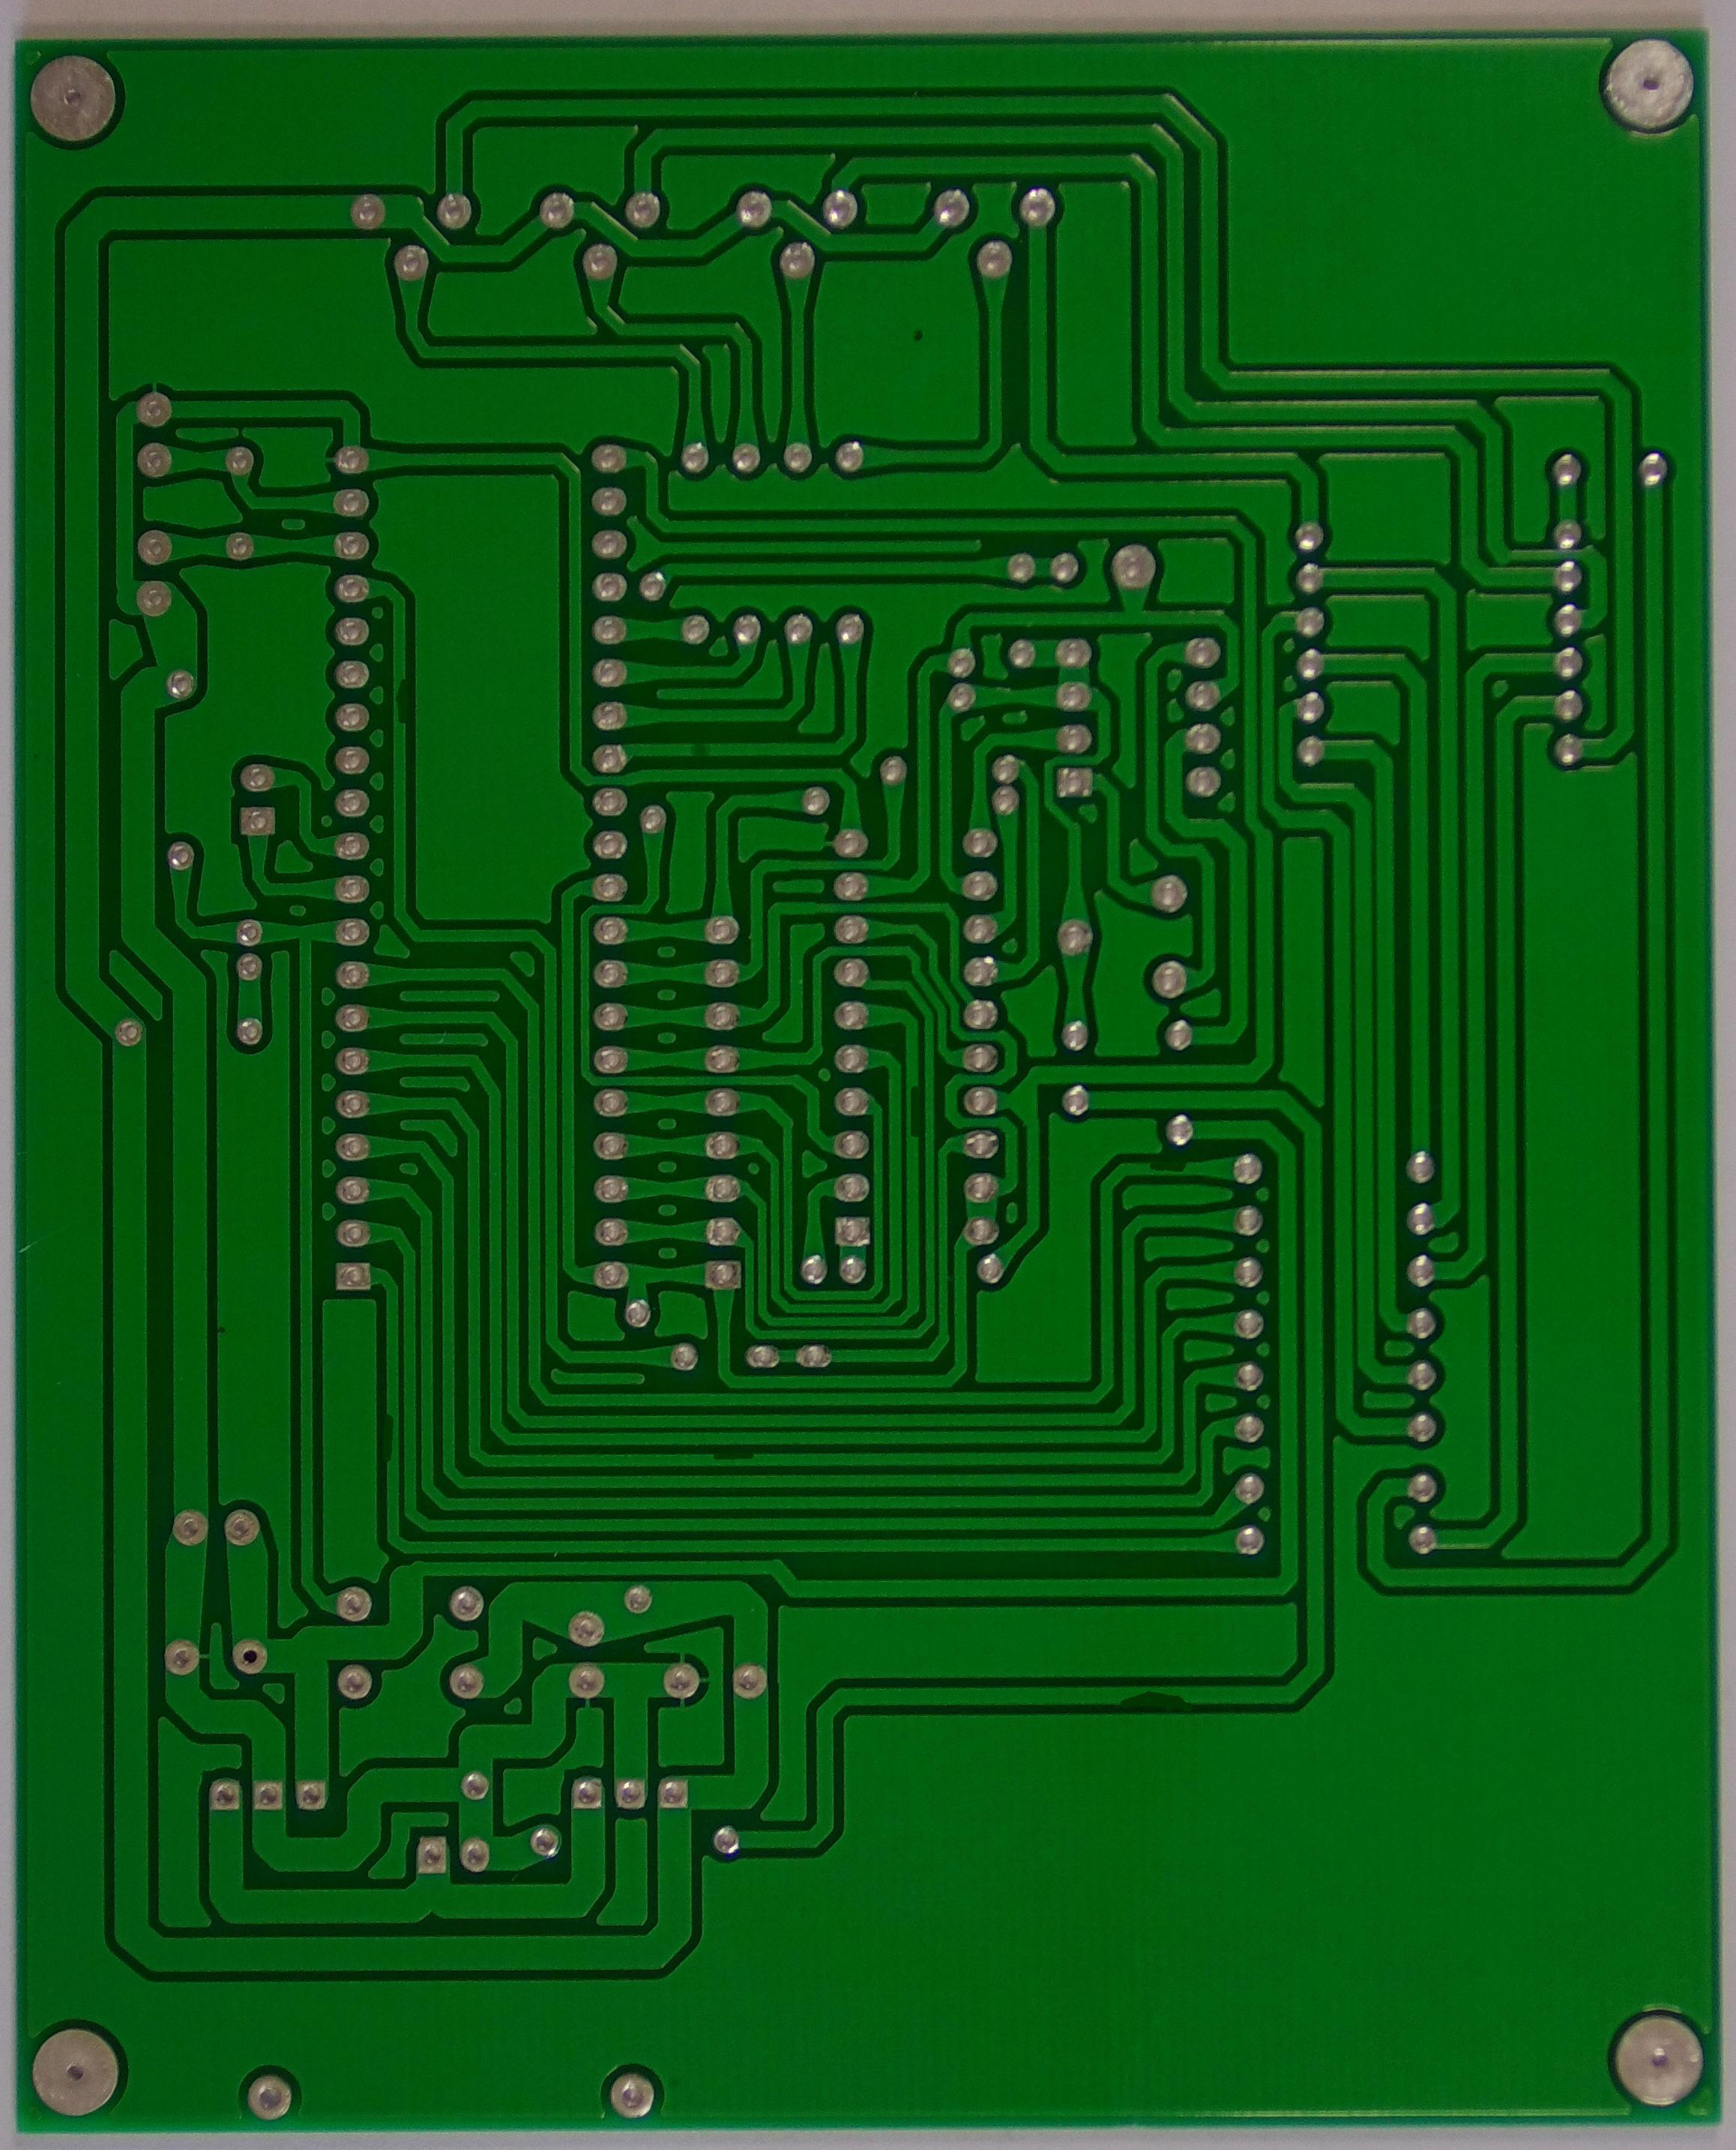mouse_bite: (1112, 1686, 1206, 1734), (700, 1440, 771, 1479), (1139, 1151, 1201, 1188), (903, 1075, 934, 1148), (388, 678, 423, 735), (379, 1411, 411, 1472)
